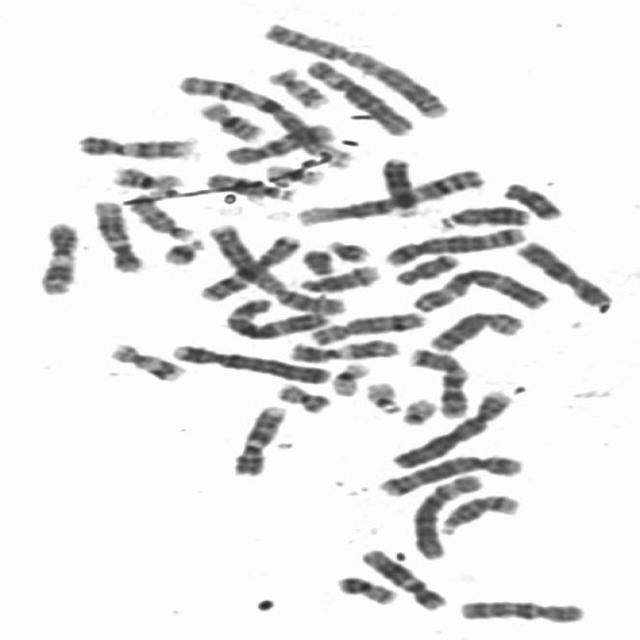A1: (172, 70, 355, 170), (290, 164, 488, 227)
A2: (255, 18, 455, 120), (202, 219, 348, 316)
A3: (408, 264, 554, 314), (217, 292, 335, 341)
B4: (385, 384, 516, 470), (165, 339, 335, 386)
B5: (372, 449, 526, 498), (378, 222, 531, 267)
C10: (220, 120, 336, 166), (452, 594, 589, 625)
C11: (28, 217, 81, 298), (284, 334, 402, 364)
C12: (352, 543, 450, 612), (86, 196, 148, 274)
C6: (296, 54, 416, 138), (405, 469, 487, 560)
C7: (195, 231, 302, 302), (401, 342, 473, 420)
C8: (301, 306, 428, 346), (424, 306, 529, 353)
C9: (226, 400, 290, 477), (72, 129, 201, 161)
D13: (432, 201, 532, 231), (377, 152, 422, 218)
D14: (433, 489, 522, 537), (292, 261, 384, 294)
D15: (124, 196, 199, 242), (201, 168, 300, 202)
E16: (192, 97, 270, 143), (107, 162, 186, 191)
E17: (104, 338, 189, 383), (258, 63, 332, 110)
E18: (497, 177, 567, 221), (389, 249, 464, 287)
F19: (324, 357, 374, 397), (259, 160, 327, 187)
F20: (329, 571, 401, 606), (270, 378, 335, 414)
G21: (155, 234, 208, 267), (321, 234, 374, 264)
G22: (359, 378, 407, 416), (396, 394, 442, 426)
X: (509, 236, 614, 312)
Y: (296, 244, 338, 277)
